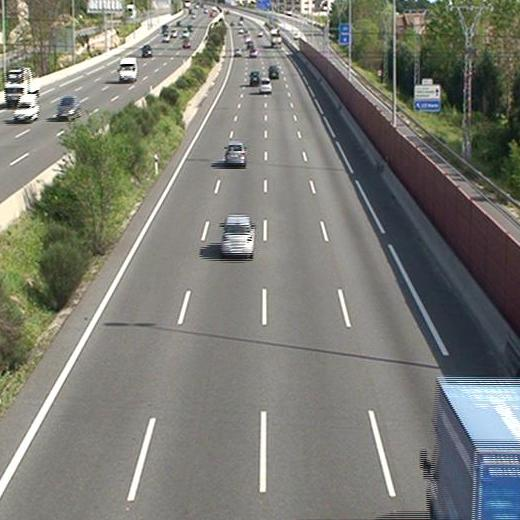car: (221, 215, 255, 255), (224, 142, 247, 165), (267, 64, 280, 78), (260, 78, 272, 93), (249, 70, 261, 85)
